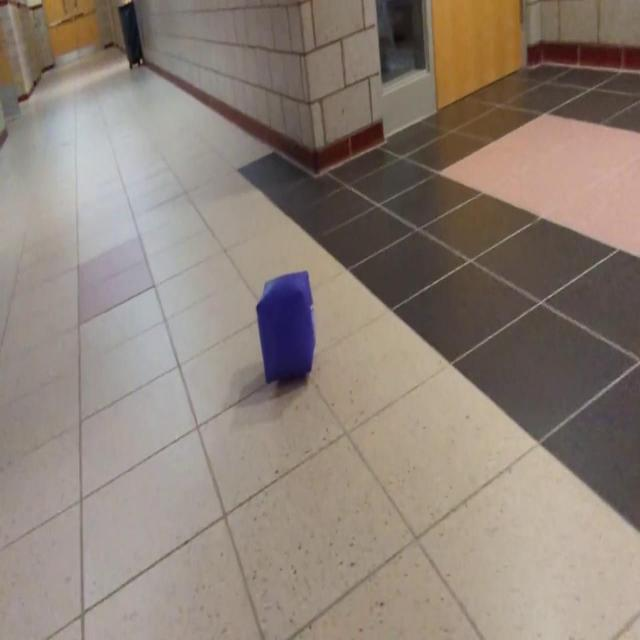frc_cube: (259, 270, 315, 382)
